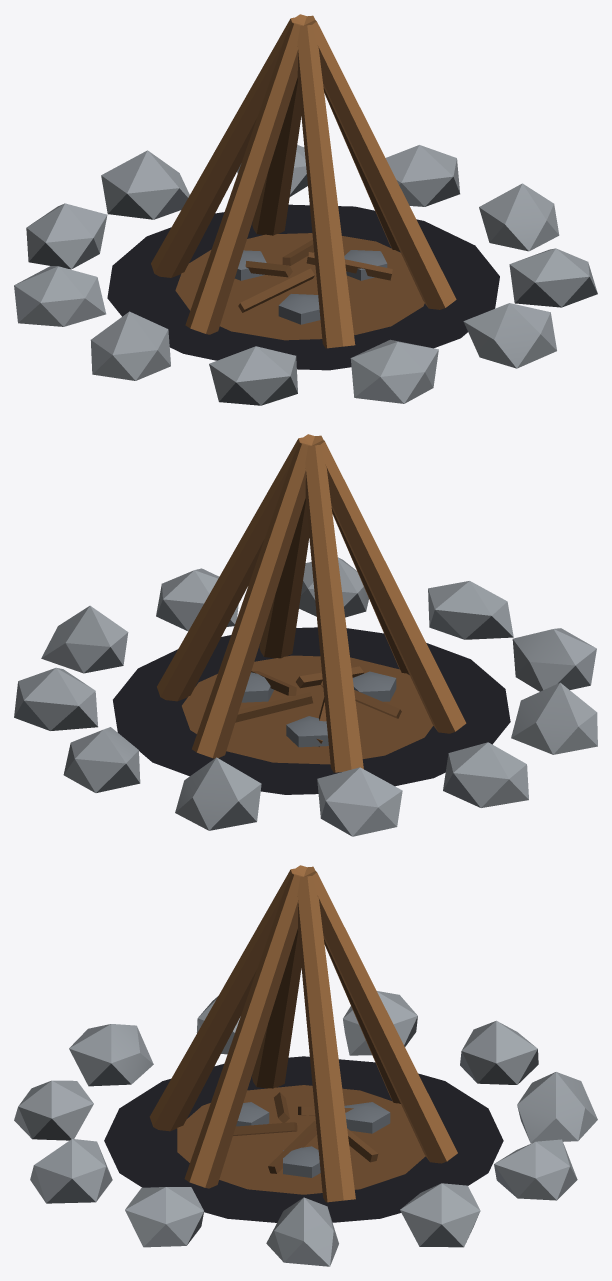
Rendered from Hoguera.fbx.
3 views of the same model, one above another, from view 1: azimuth 30°, elevation 25°; view 2: azimuth 150°, elevation 25°; view 3: azimuth 270°, elevation 25° (orthographic).
Visible parts, largest first — view 1: Hoguera; view 2: Hoguera; view 3: Hoguera.
Part boxes in pixels (<box>): Hoguera: <box>14,14,597,405</box>; Hoguera: <box>14,434,597,836</box>; Hoguera: <box>14,865,597,1266</box>.
Bounding box in the file's own units: 5.88 × 3.07 × 5.84.
Materials: 1 (1 with a texture image).
